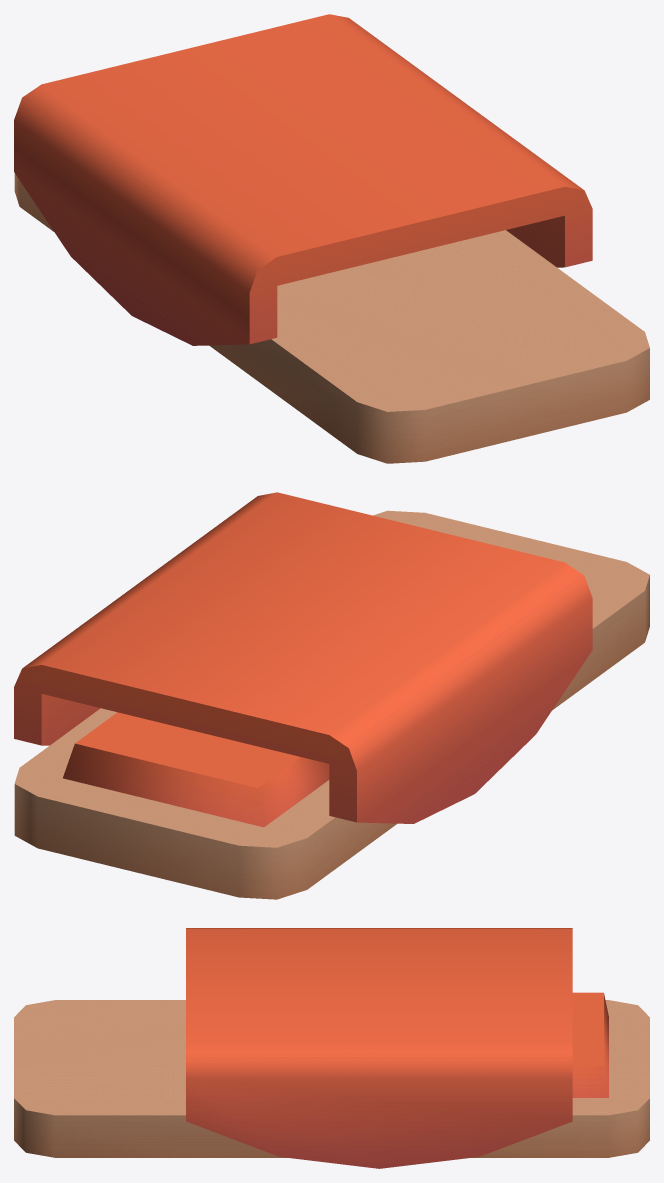
The model's file is bedroll.glb.
3 views of the same model, one above another, from view 1: azimuth 30°, elevation 25°; view 2: azimuth 150°, elevation 25°; view 3: azimuth 270°, elevation 25° (orthographic). The views are drawn at different scales.
Visible parts, largest first — view 1: bedroll.001, bedroll; view 2: bedroll.001, bedroll; view 3: bedroll.001, bedroll.
Part boxes in pixels (x1,y1,x2,y2): bedroll.001: (14, 14, 592, 345); bedroll: (14, 173, 649, 463); bedroll.001: (14, 492, 592, 823); bedroll: (14, 510, 649, 899); bedroll.001: (186, 928, 572, 1168); bedroll: (14, 992, 649, 1157).
Bounding box in the file's own units: 1.56 × 0.604 × 3.06.
1 material, 1 textured.
